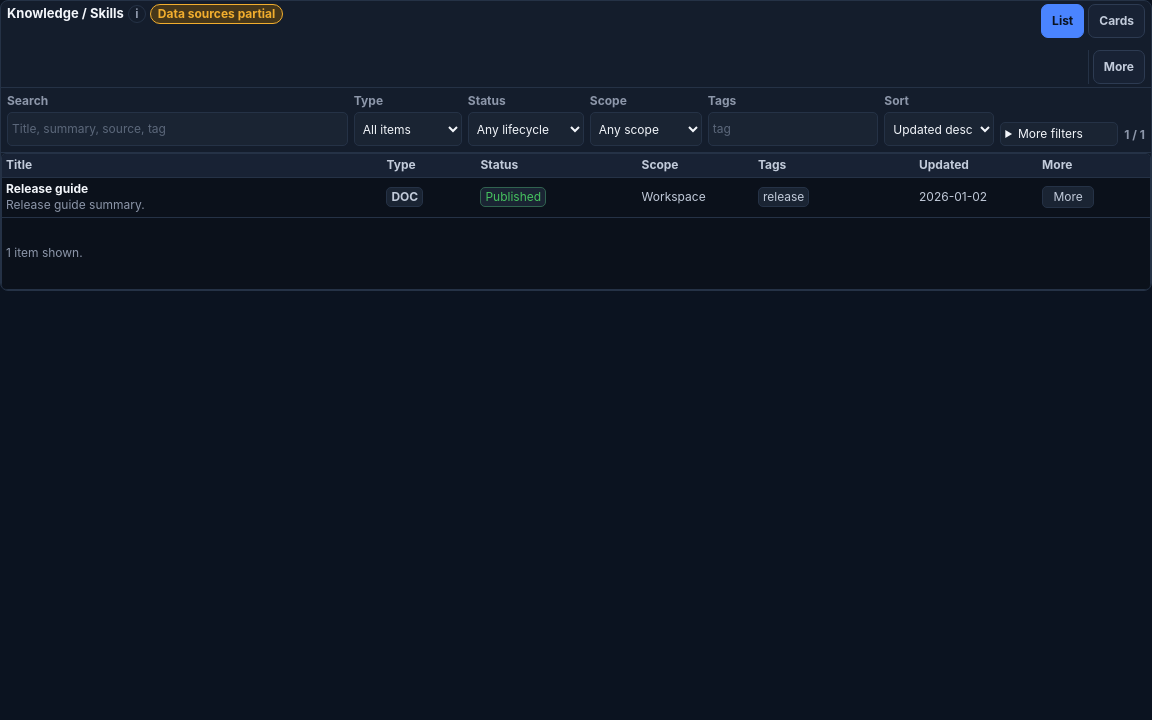
Scenario: KnowledgeV2 unavailable actions › keeps Manage Skills product-facing and moves bridge detail to debug
The image size is (1152, 720).
Click the 1st button "More". click: (1119, 67)
box: [1093,50,1145,84]
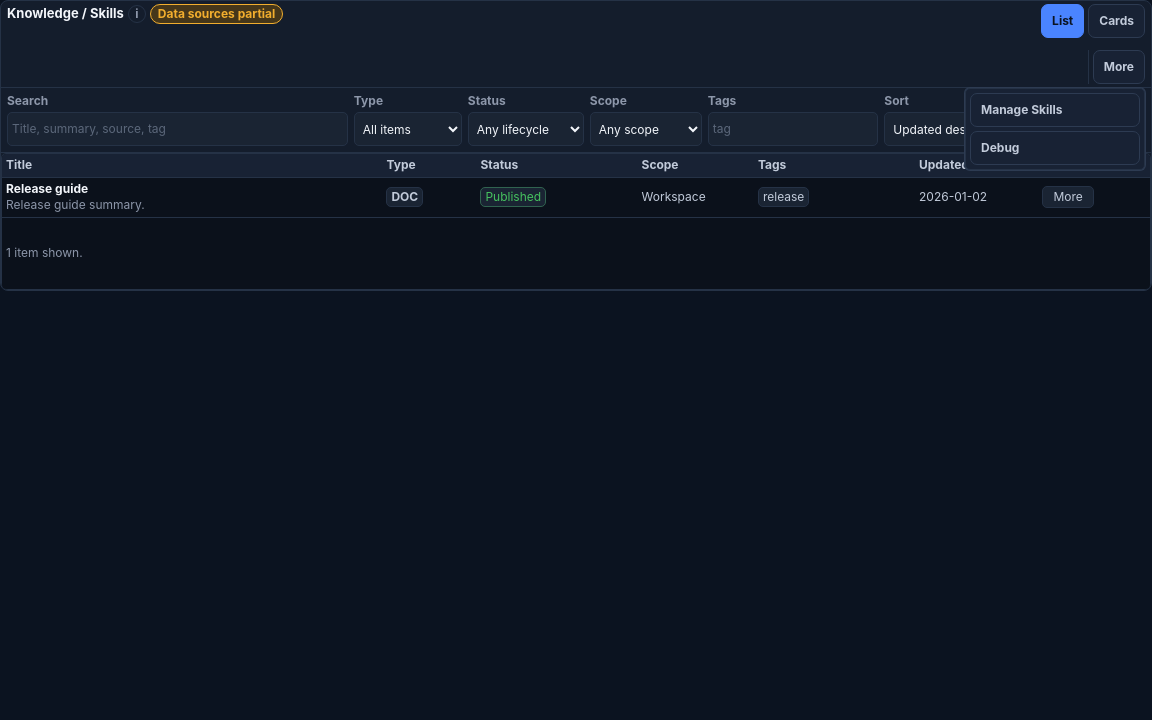
Check: the menu item "Manage Skills" is shown
Click the menu item "Manage Skills". click: (1055, 110)
box: [970,93,1140,127]
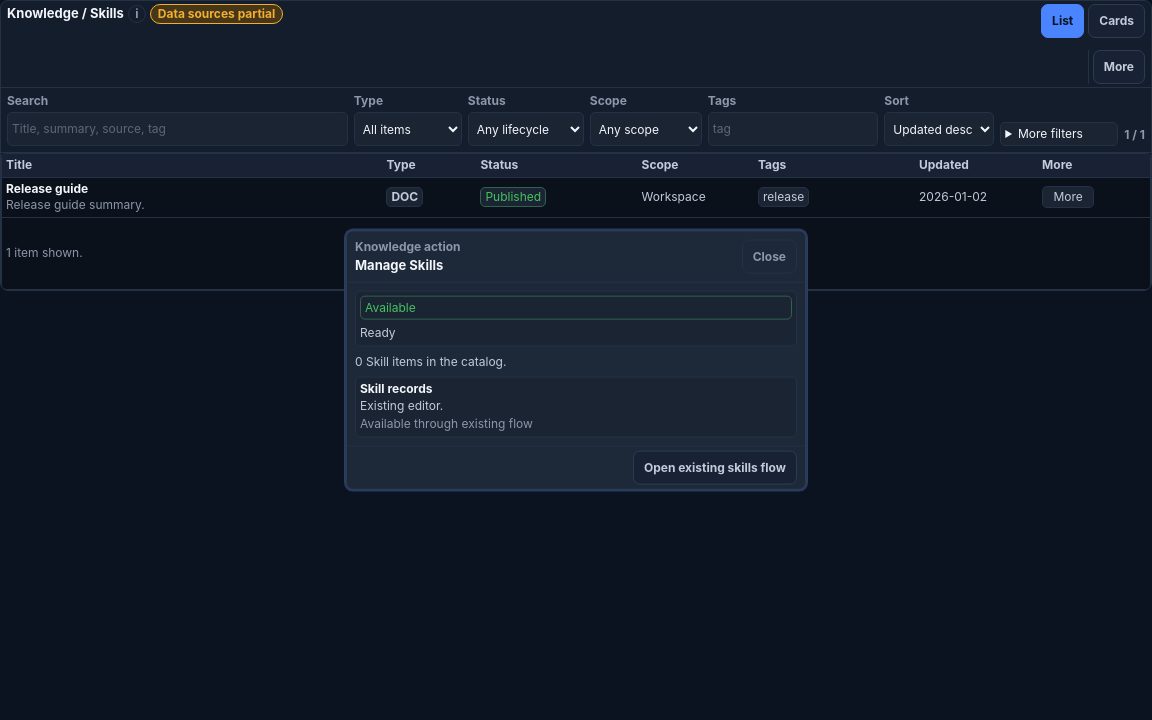
Check: the text "Skills list bridge is unavailable" is not shown
Check: the dialog shows "Available", box [365,300,416,315]
Check: the button "Open existing skills flow" is shown
Click the button "Open existing skills flow". click: (715, 467)
box: [633,450,797,484]
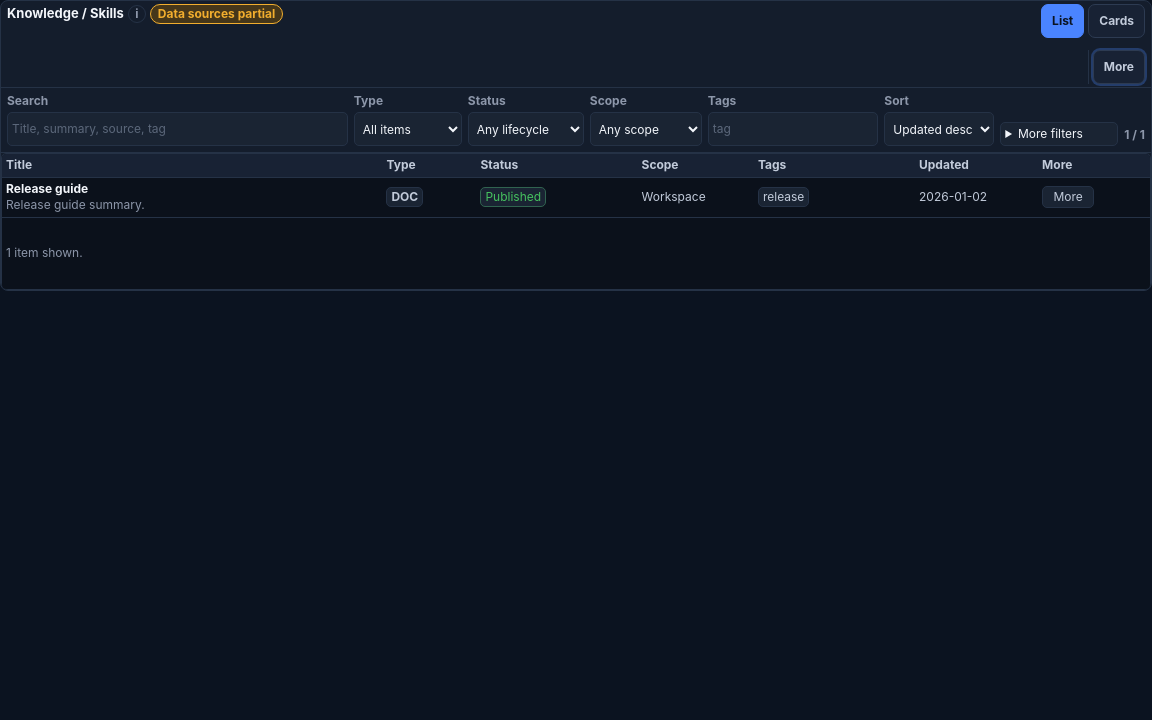
Click the 1st button "More". click: (1119, 67)
box: [1093,50,1145,84]
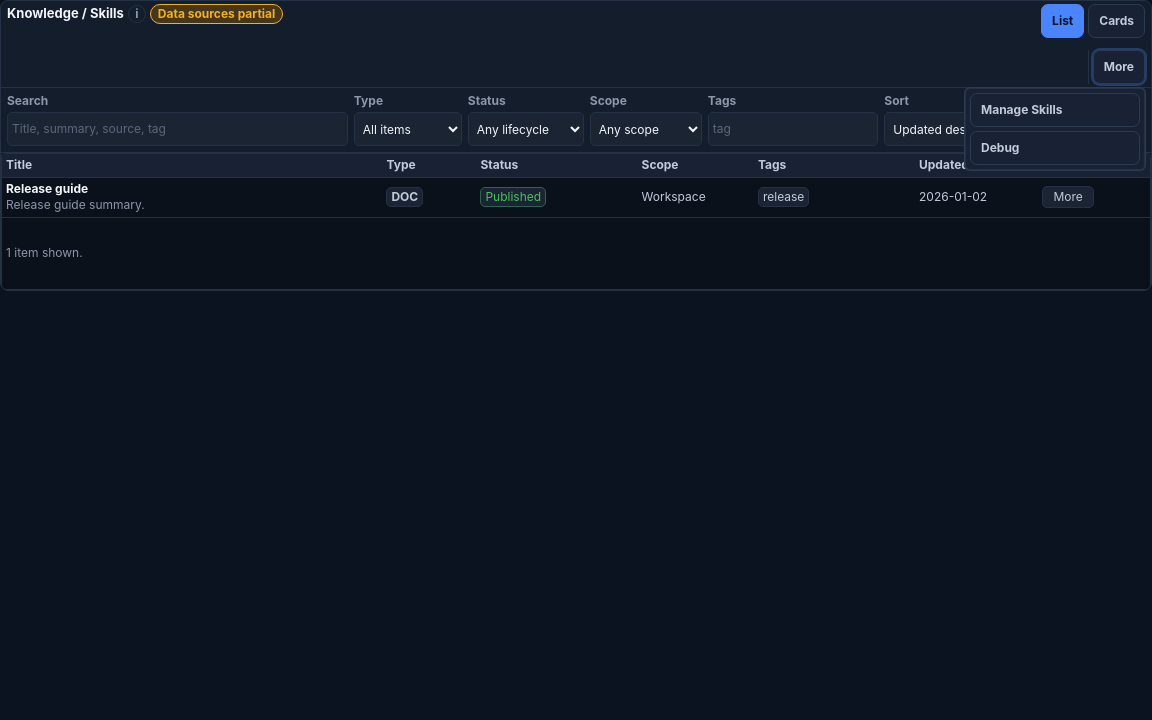
Check: the menu item "Debug" is shown
Click the menu item "Debug". click: (1055, 148)
box: [970,131,1140,165]
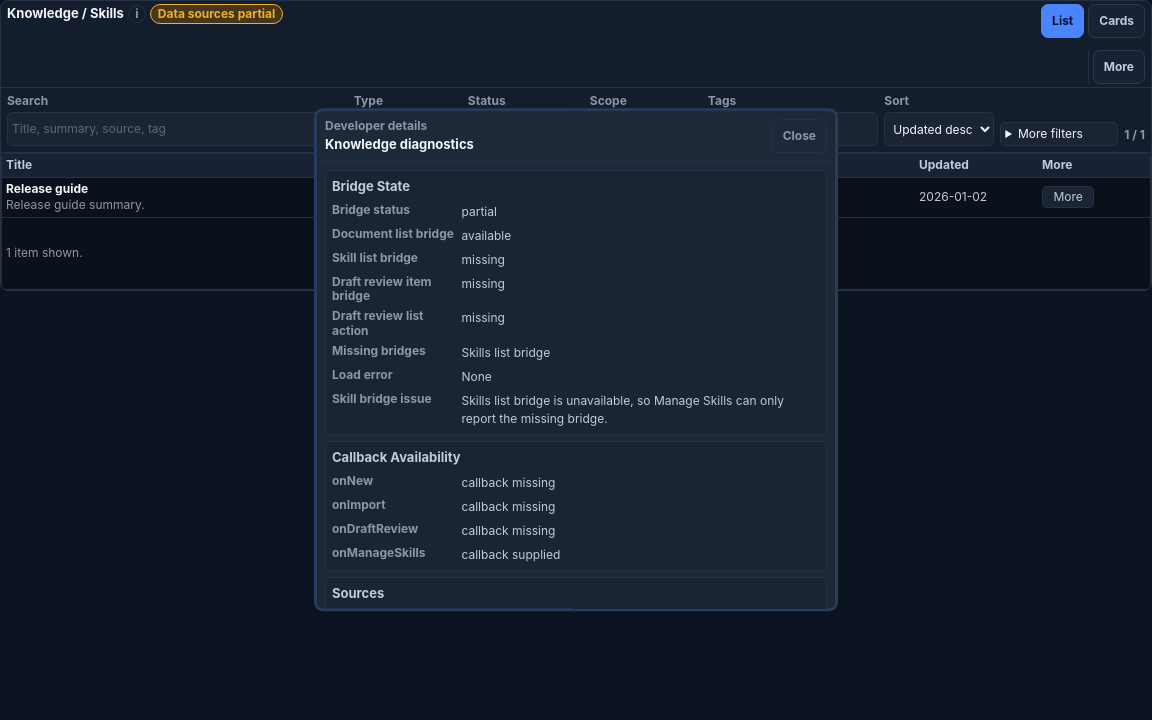
Check: the dialog shows "Skills list bridge is unavailable", box [462,393,784,426]
